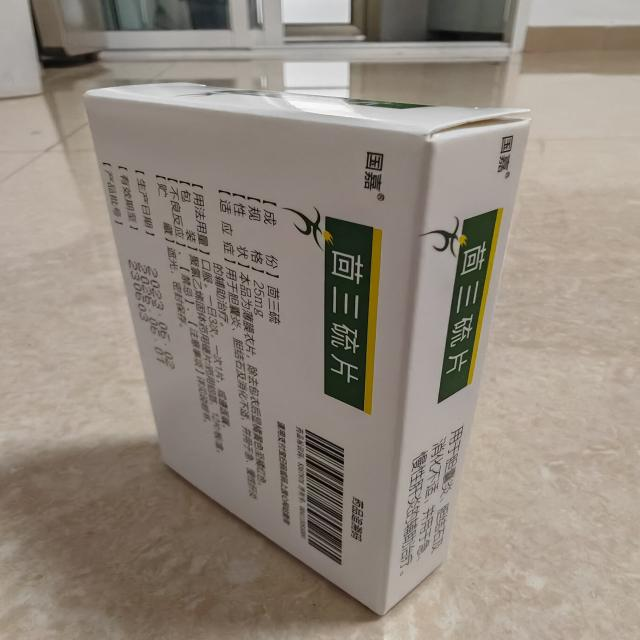box: (75, 72, 547, 623)
